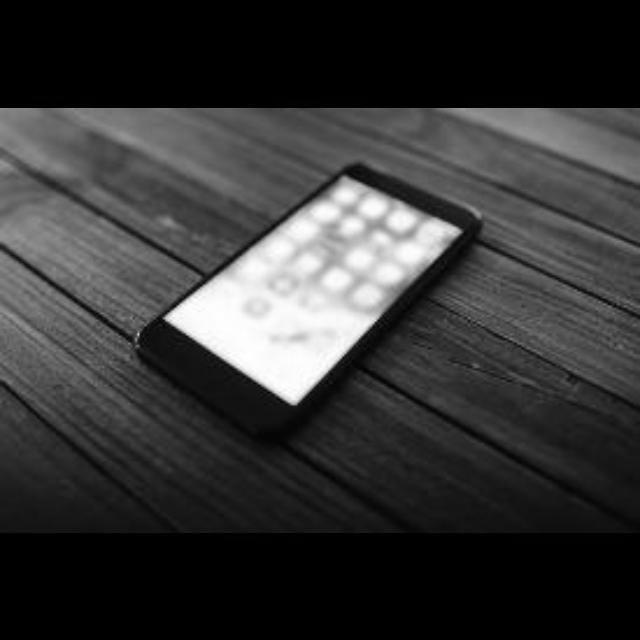fake: (128, 154, 510, 464)
